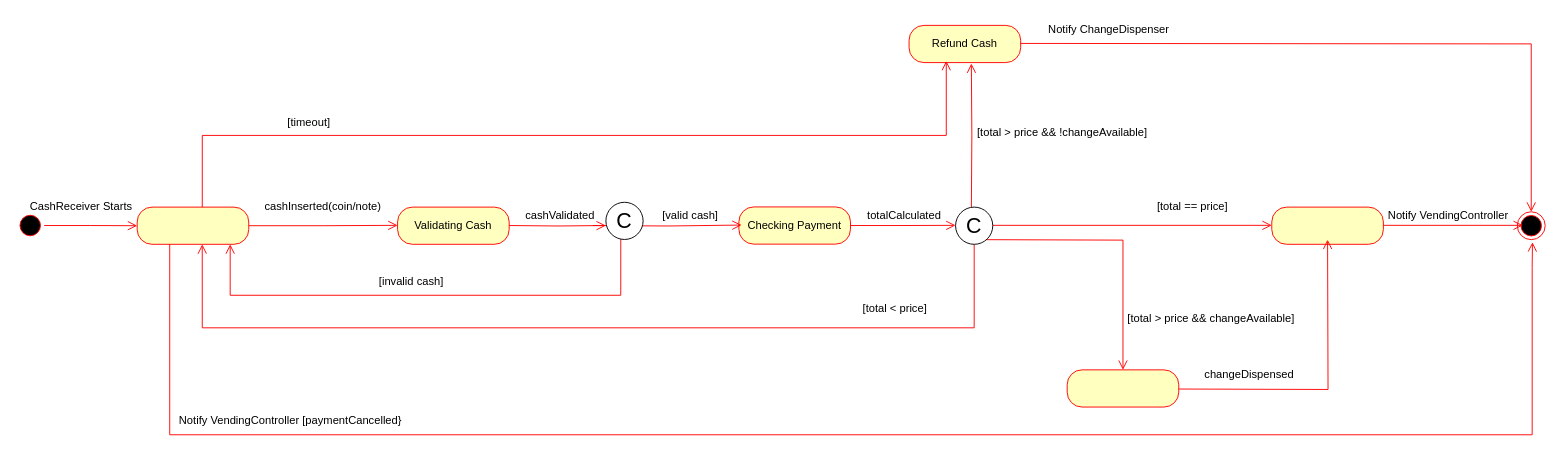
This 1561x460 diagram has some shape labels left out. The shapes that lost their labels are listed below. From the top down, each one's box as (x1, y1, x2, y2) in pixels, then its label:
(136, 206, 249, 244): Receiving Cash
(1271, 206, 1383, 244): Payment Complete
(1066, 369, 1179, 407): Dispensing Change
